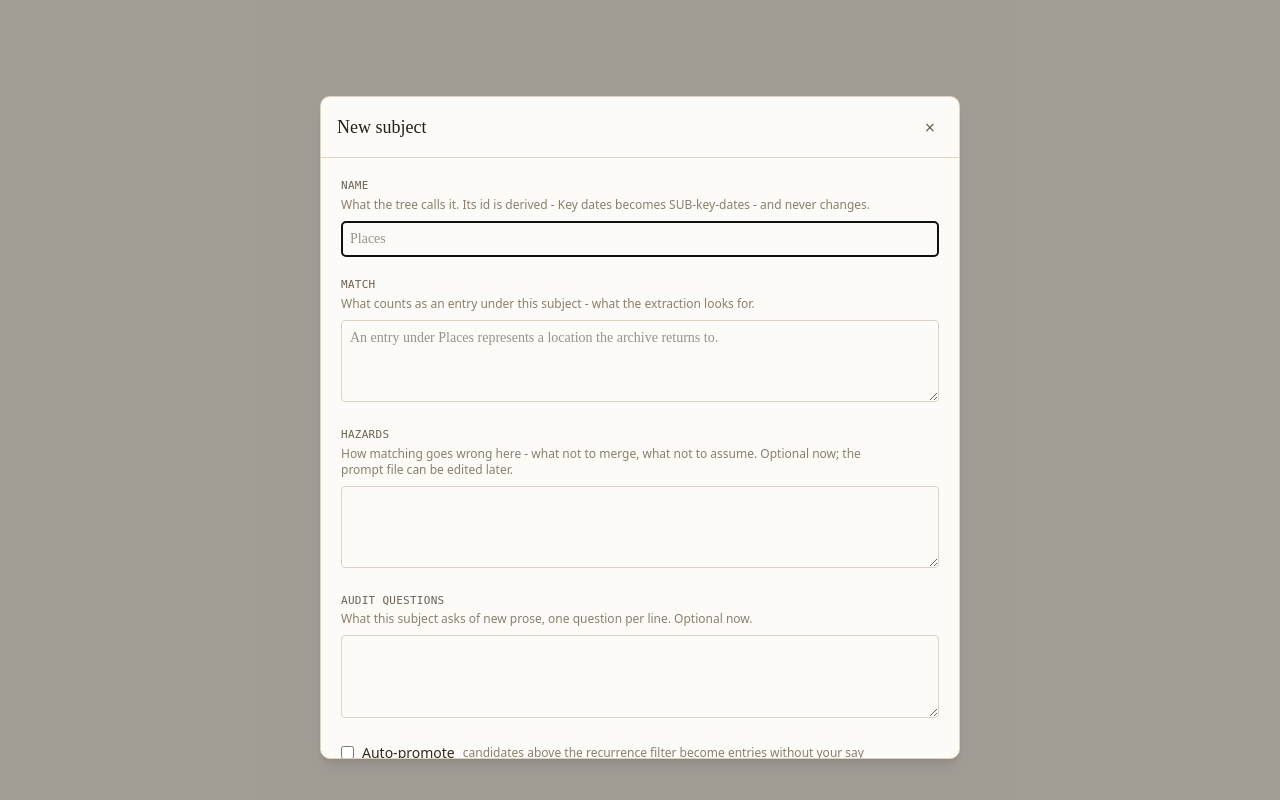
Test case: the New subject dialog (ADR-0014) › shows the server's reason when the subject already exists, and stays open
Type "People" into the field named "Name" at x=640, y=239, box [341, 220, 939, 257]
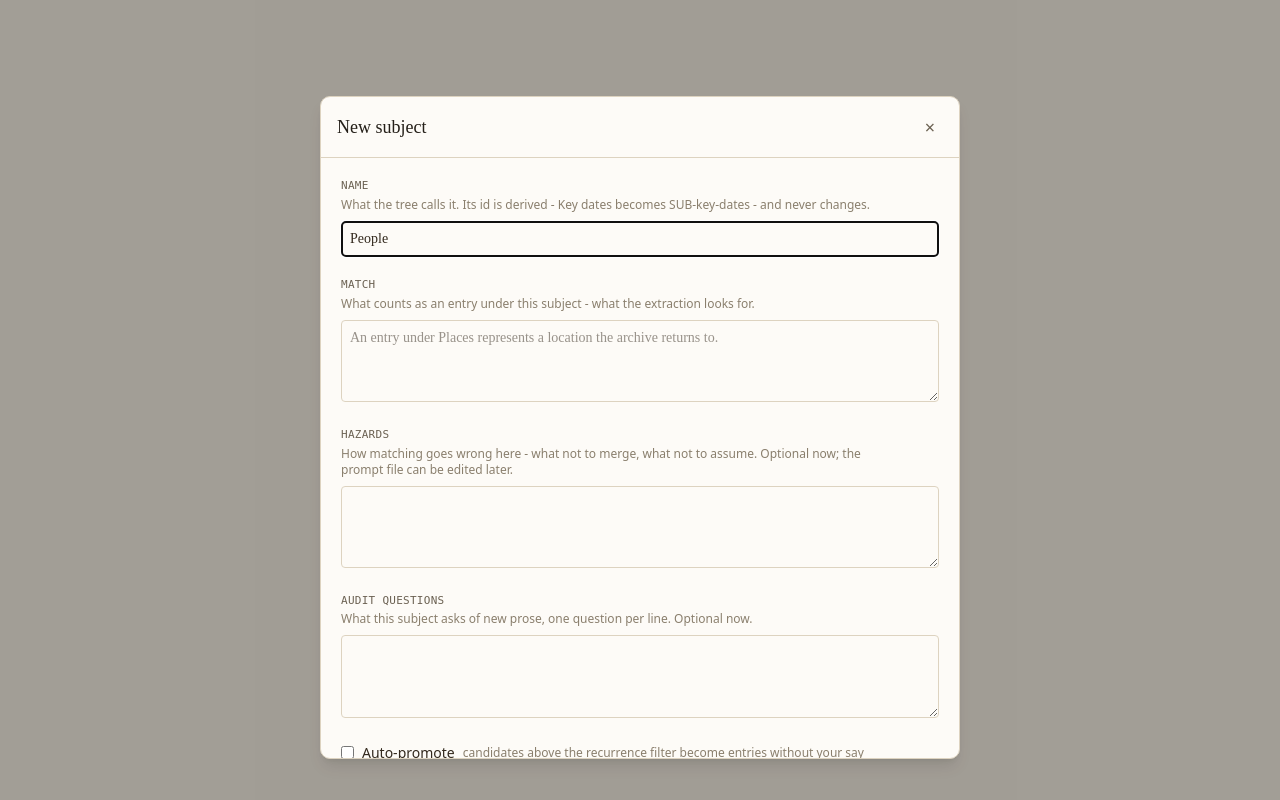
Replace the text in the text box named "Match" with "A person." at x=640, y=361, box [341, 320, 939, 402]
(page scrolled)
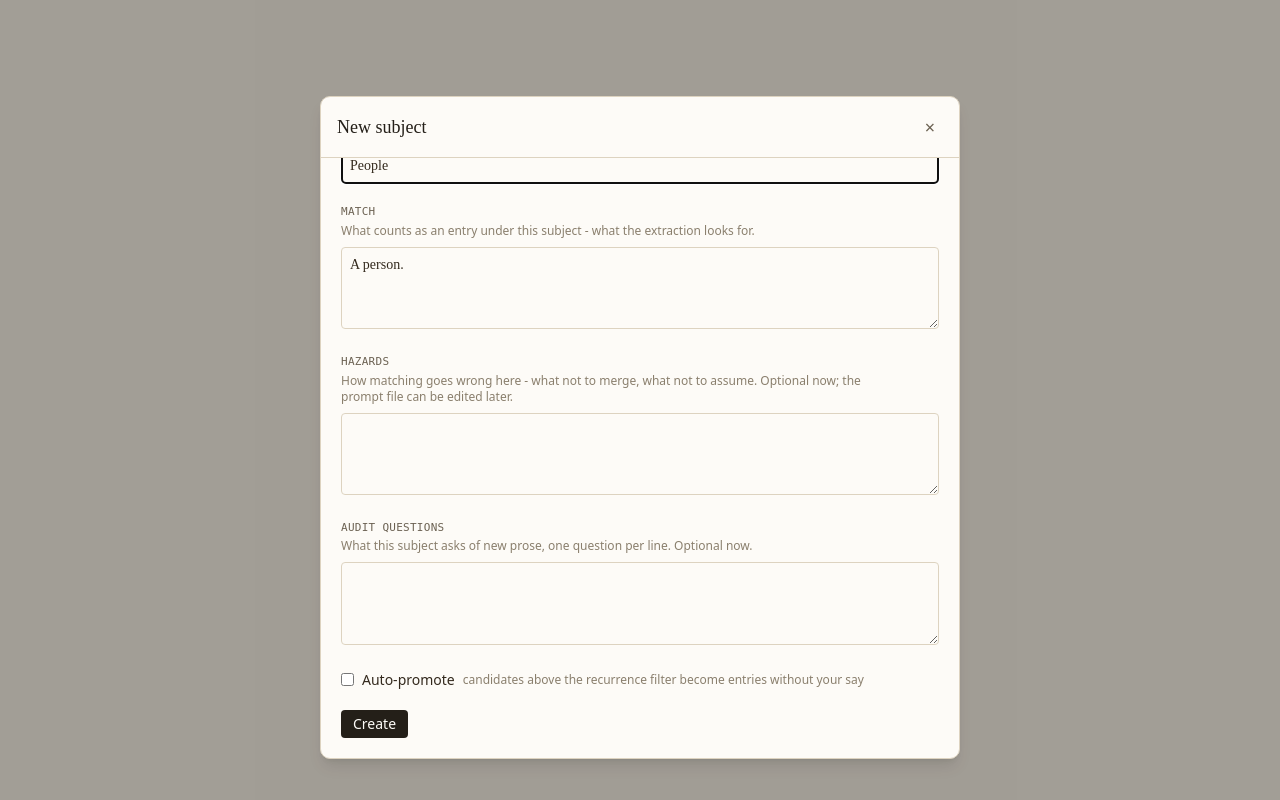
Click the button "Create" at x=375, y=724, box [341, 710, 408, 738]
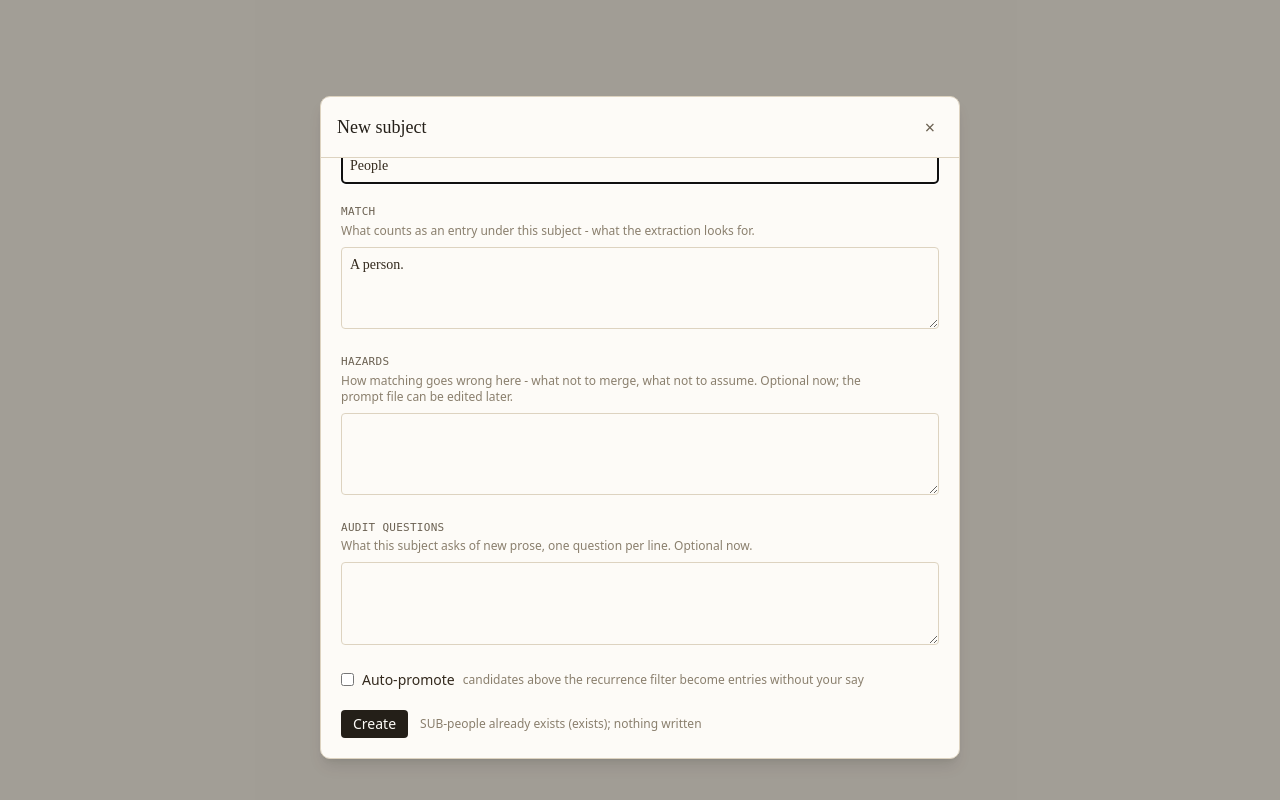
Expected: the text "SUB-people already exists (exists); nothing written" is shown, [420, 716, 702, 732]
